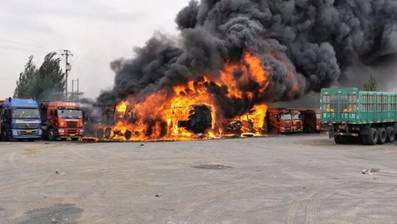fire: (97, 80, 275, 140)
smoke: (122, 4, 391, 69)
